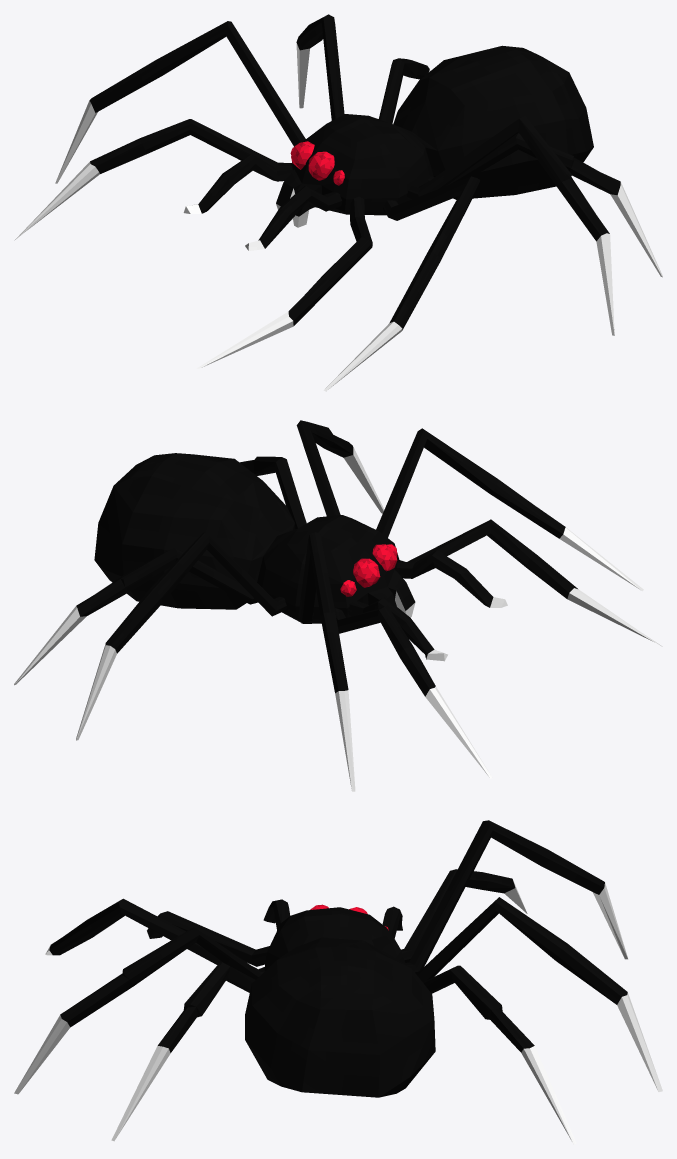
File: spiderAttack8.obj
3 renders of one model, top to bottom at view 1: azimuth 30°, elevation 25°; view 2: azimuth 150°, elevation 25°; view 3: azimuth 270°, elevation 25°, orthographic. The views are drawn at different scales.
Parts seen in each view (by area): view 1: Cube.004_Cube.005; view 2: Cube.004_Cube.005; view 3: Cube.004_Cube.005.
Boxes of the visible parts, bbox=[...] form: Cube.004_Cube.005: bbox=[14, 14, 662, 391]; Cube.004_Cube.005: bbox=[14, 420, 662, 791]; Cube.004_Cube.005: bbox=[14, 820, 662, 1144].
Bounding box in the file's own units: 30.16 × 11.37 × 34.63.
